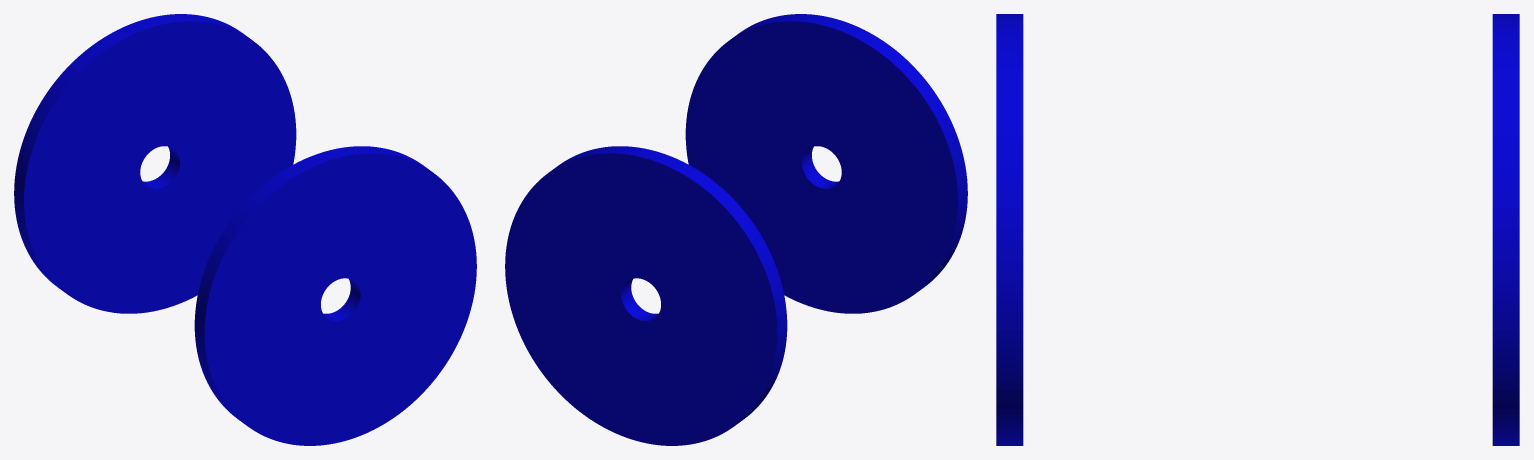
File: ECalEndcap.gltf
The picture shows the model from 3 angles, left to right: view 1: azimuth 30°, elevation 25°; view 2: azimuth 150°, elevation 25°; view 3: azimuth 270°, elevation 25°; orthographic projection. The views are drawn at different scales.
Parts seen in each view (by area): view 1: ECalEndcap; view 2: ECalEndcap; view 3: ECalEndcap.
Boxes of the visible parts, x1,y1,x2,y2 form: ECalEndcap: (14, 14, 476, 445); ECalEndcap: (505, 14, 967, 445); ECalEndcap: (996, 14, 1519, 445).
Size of the model in its own units: 4250 by 4250 by 5150.
